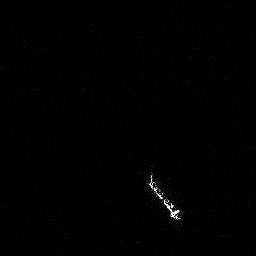ship: (142, 169, 186, 225)
